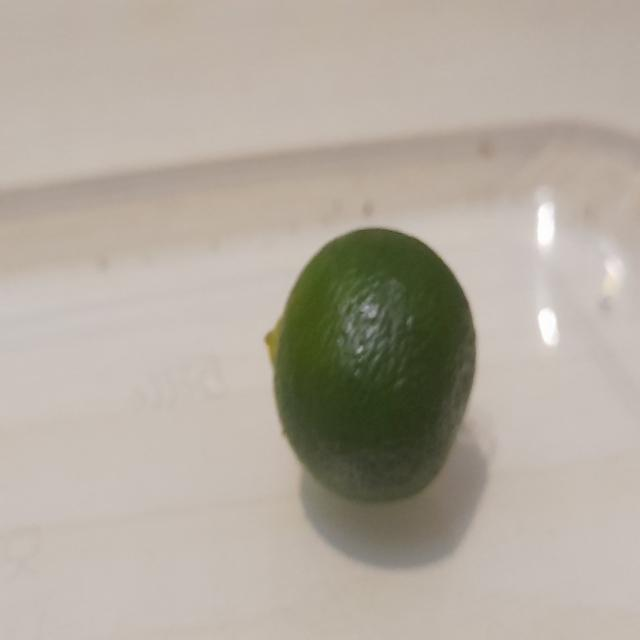heathy: (264, 220, 485, 517)
